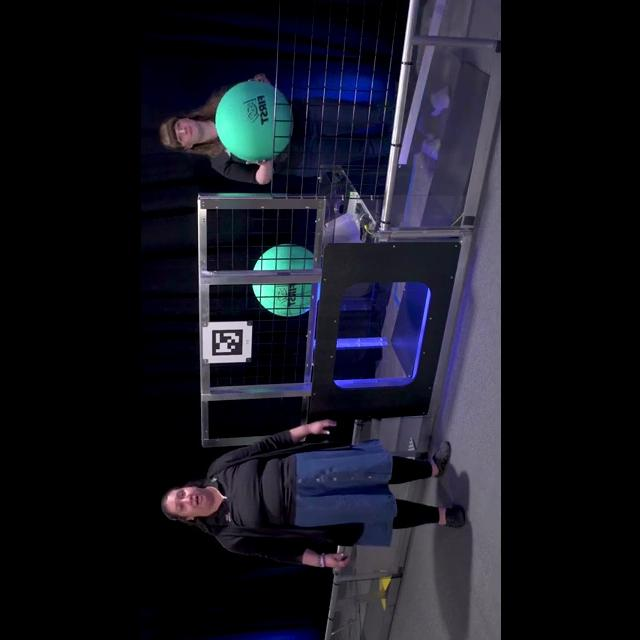ALGAE: (213, 80, 293, 160), (250, 243, 314, 317)
